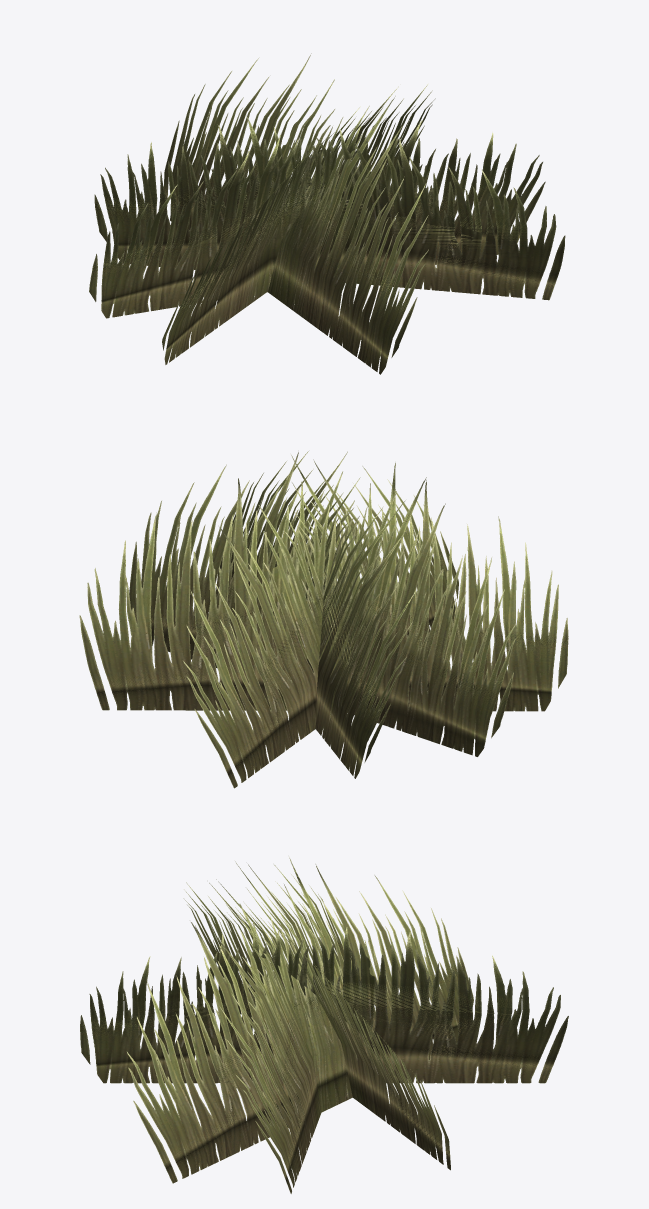
The model's file is grass.dae.
The picture shows the model from 3 angles, top to bottom: view 1: azimuth 30°, elevation 25°; view 2: azimuth 150°, elevation 25°; view 3: azimuth 270°, elevation 25°; orthographic projection.
Parts seen in each view (by area): view 1: polySurface62, polySurface63; view 2: polySurface62, polySurface63; view 3: polySurface62, polySurface63.
Boxes of the visible parts, bbox=[...] form: polySurface62: bbox=[89, 53, 565, 374]; polySurface63: bbox=[90, 64, 564, 373]; polySurface62: bbox=[79, 451, 568, 788]; polySurface63: bbox=[80, 454, 568, 785]; polySurface62: bbox=[80, 858, 568, 1193]; polySurface63: bbox=[80, 857, 568, 1186].
Size of the model in its own units: 0.7351 by 0.298 by 0.7369.
